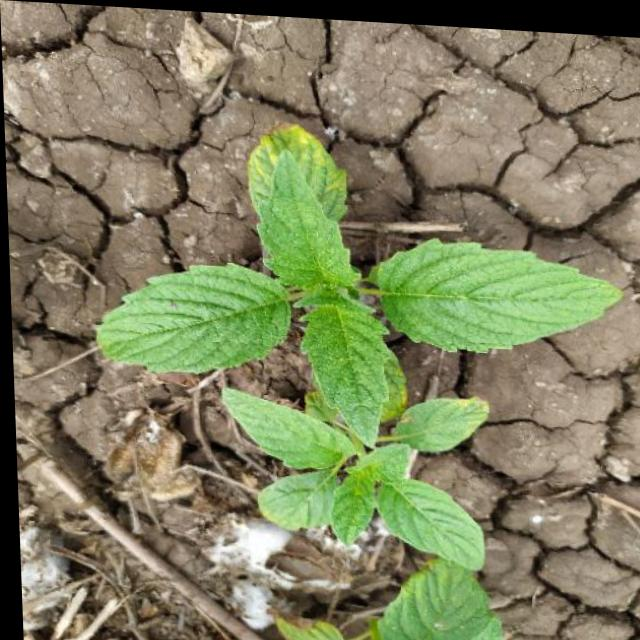crop: (65, 125, 628, 422), (187, 379, 547, 569)
